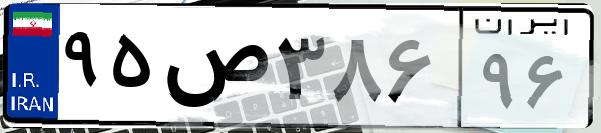3: (270, 28, 330, 110)
5: (110, 28, 158, 98)
6: (385, 28, 445, 110), (525, 38, 570, 115)
8: (330, 28, 385, 110)
9: (57, 26, 110, 100), (475, 38, 525, 113)
ص: (158, 20, 270, 120)
